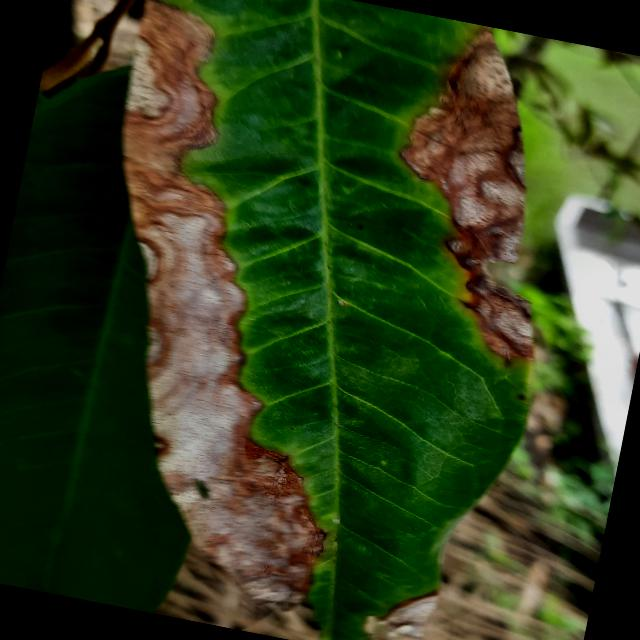Leaf Blight: (20, 0, 612, 639)
